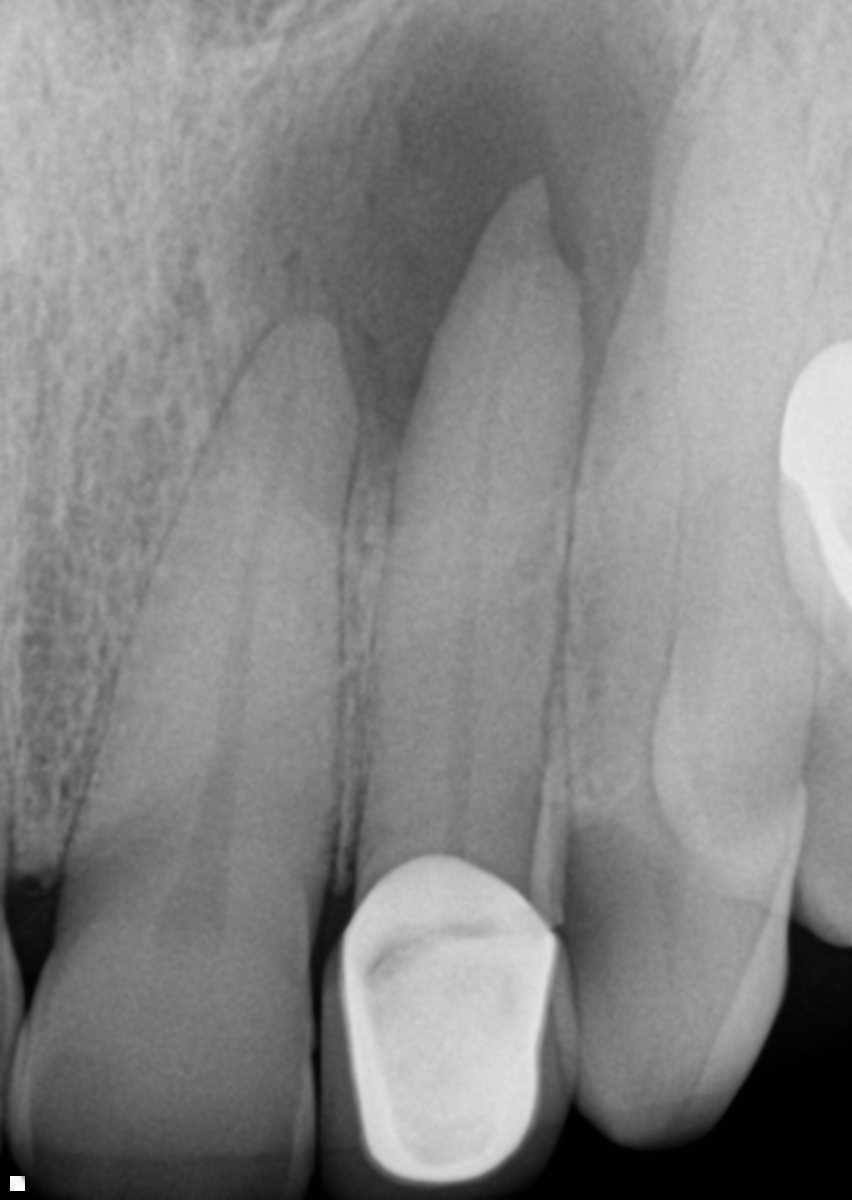Apical Lesion: (207, 0, 687, 525)
Main Canal: (446, 227, 544, 867), (192, 327, 307, 858)
Main Root: (549, 0, 847, 858), (61, 306, 366, 859), (354, 167, 586, 894)
